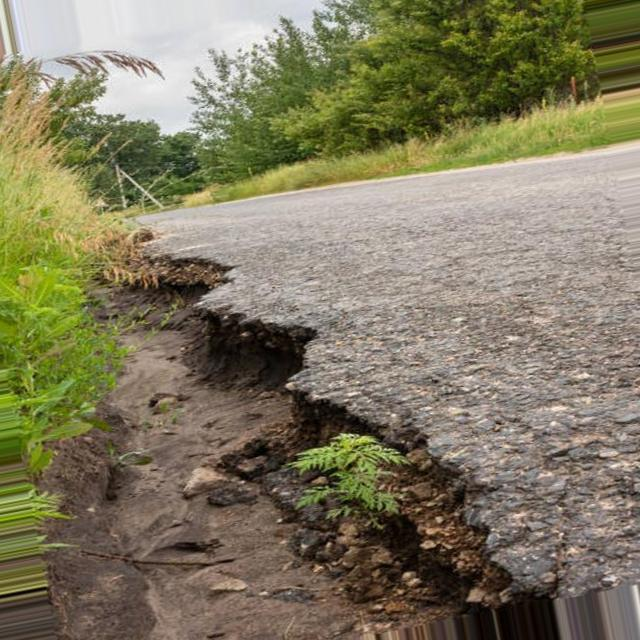Pinggir: (110, 242, 578, 617)
